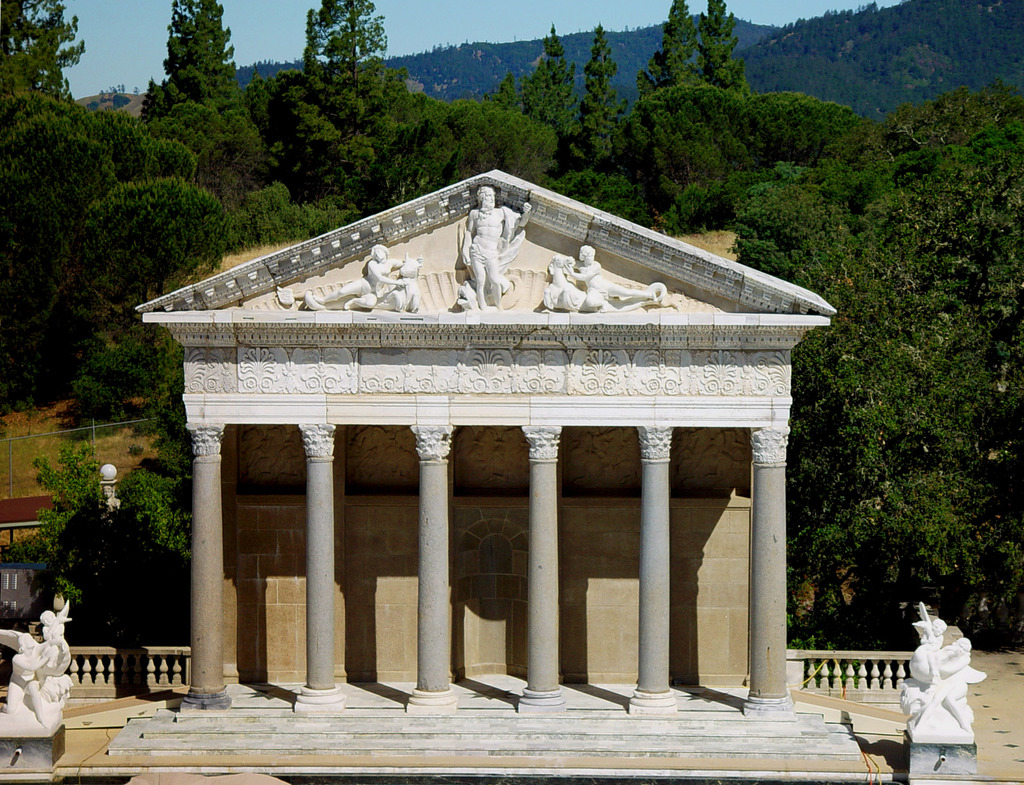person: (537, 242, 669, 313)
